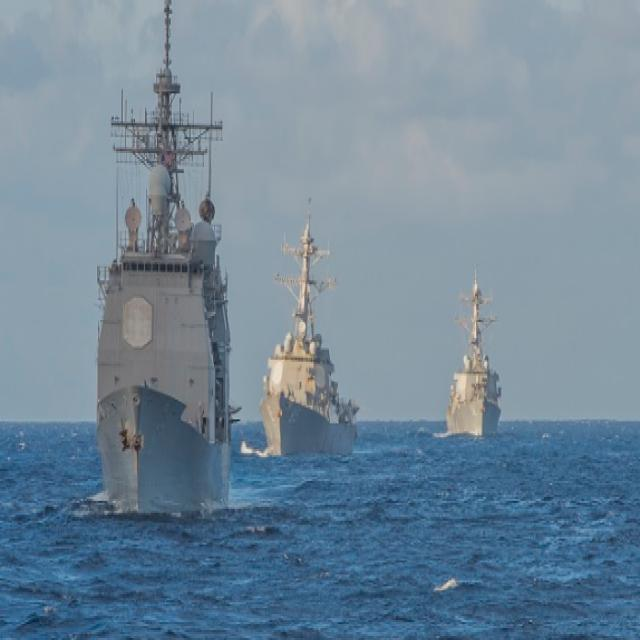navalvessels: (72, 0, 238, 509), (270, 198, 364, 454), (426, 262, 516, 443)
